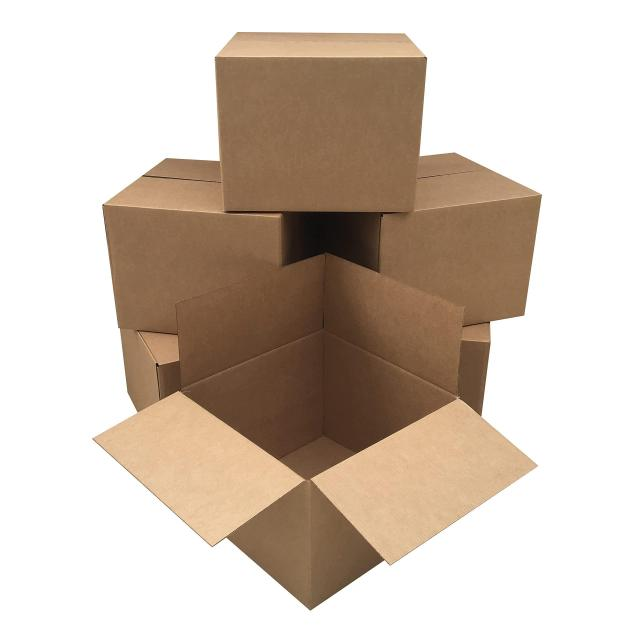Garbage: (101, 252, 540, 630)
Pathole: (200, 20, 428, 216), (95, 148, 312, 334), (360, 150, 542, 345)
